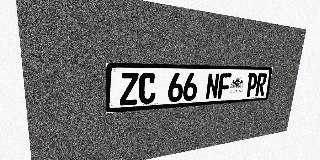6: (168, 73, 184, 102), (182, 73, 198, 101)
C: (138, 73, 156, 104)
F: (217, 73, 231, 99)
N: (205, 73, 220, 100)
P: (245, 73, 258, 97)
R: (255, 73, 267, 96)
Z: (120, 73, 139, 106)
